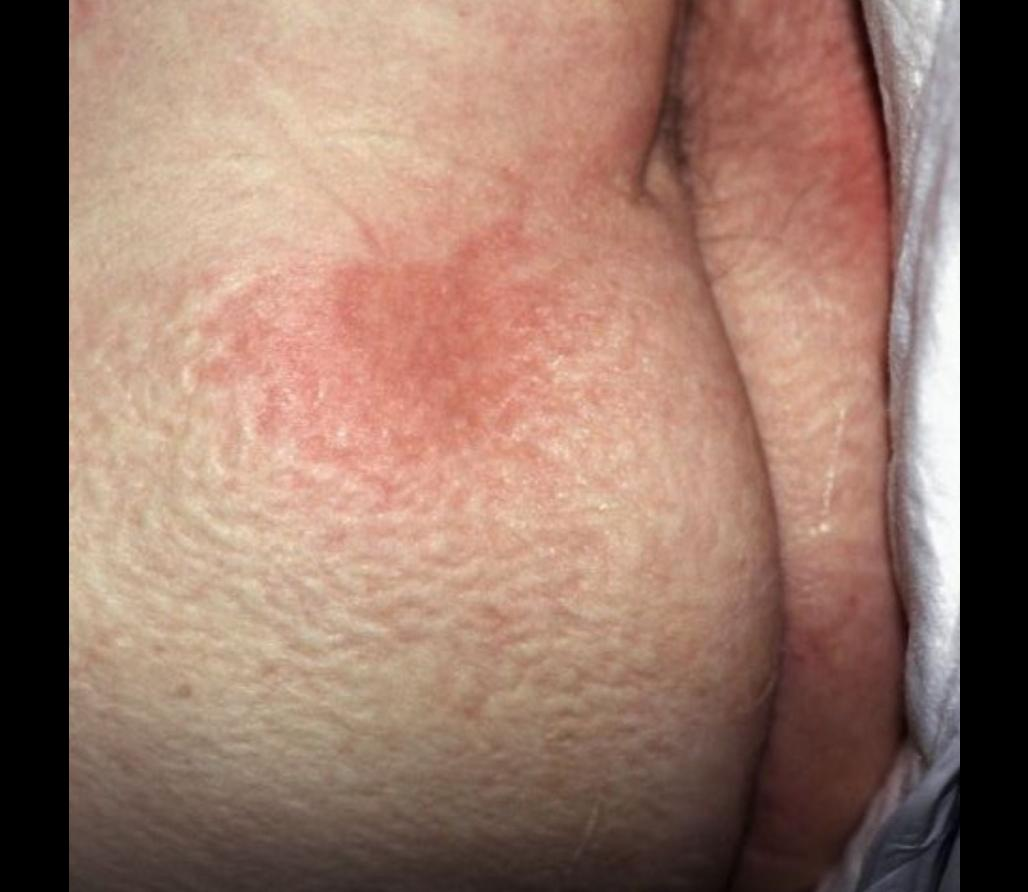Stage1: (146, 0, 883, 683)
